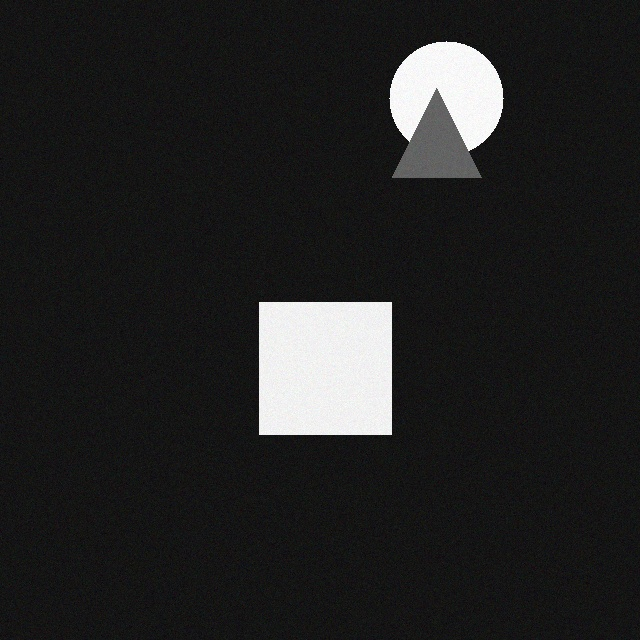circle: (387, 33, 501, 147)
square: (257, 294, 389, 426)
triangle: (390, 80, 479, 169)
